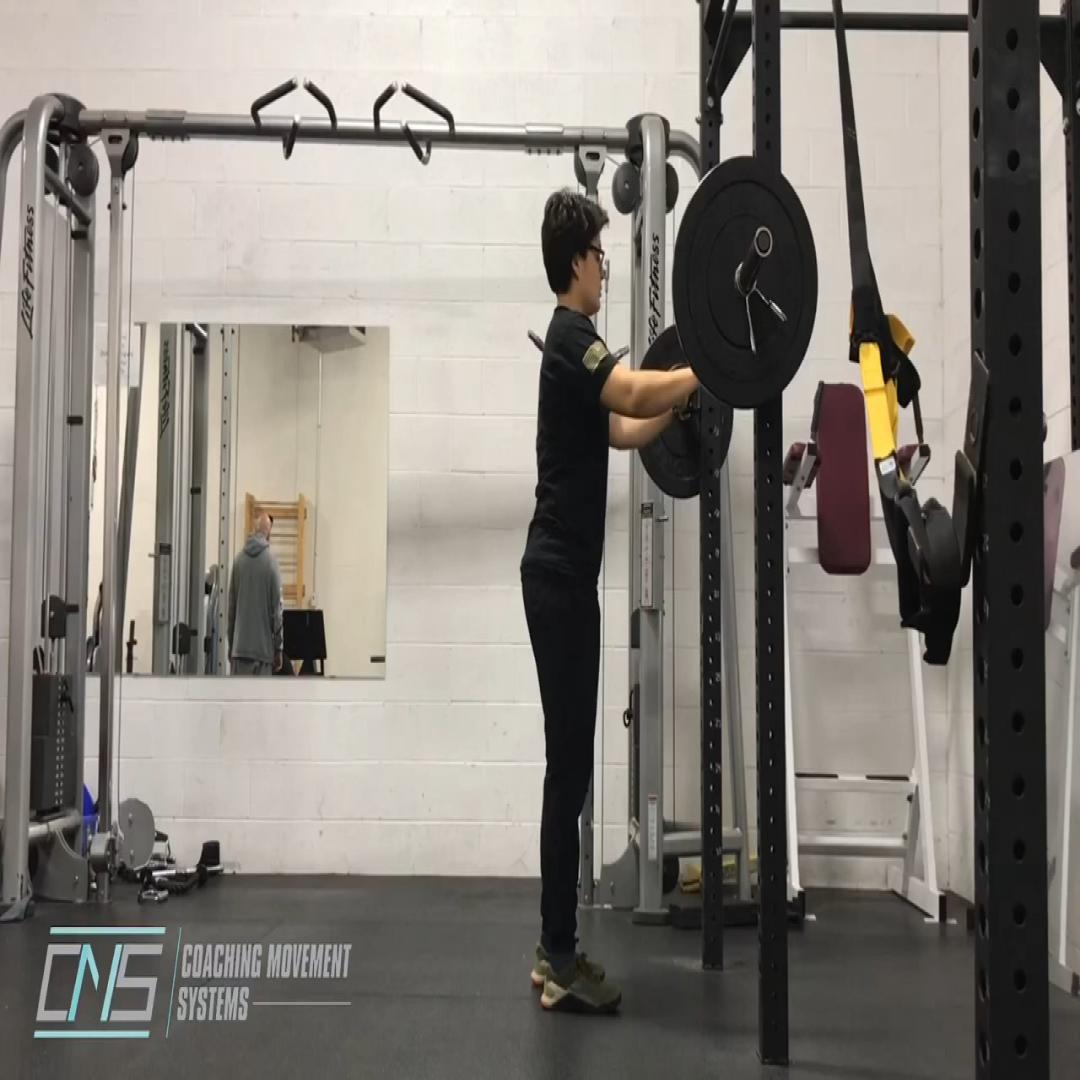Bar: (755, 226, 774, 258)
Barbell: (673, 154, 818, 408)
